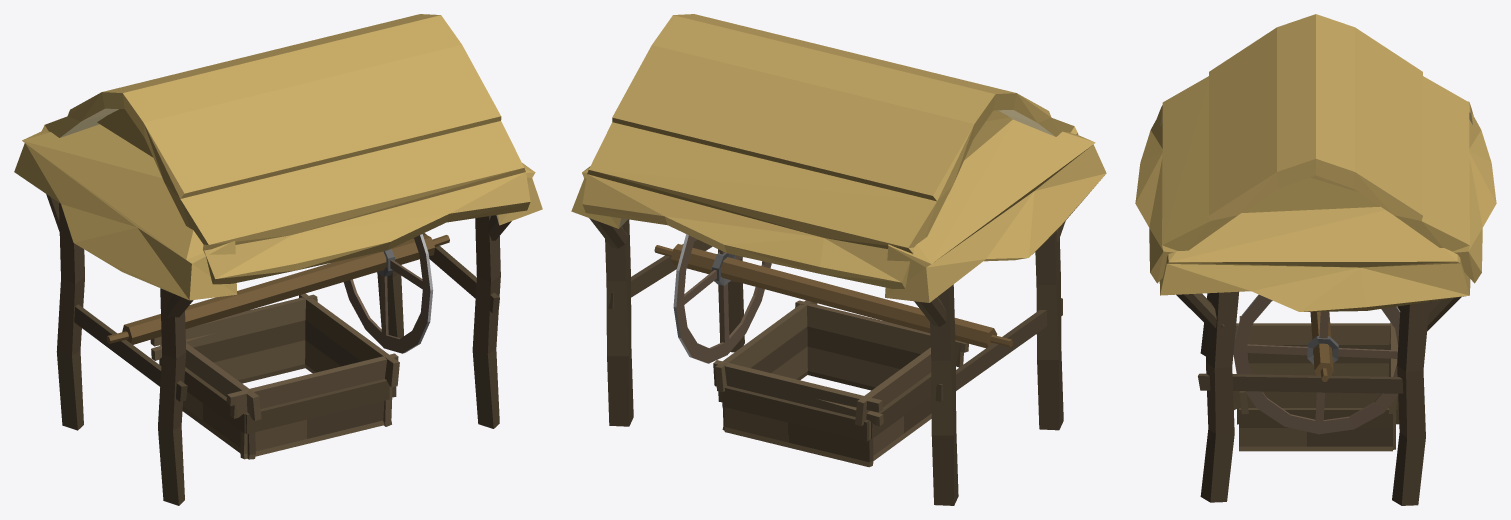
File: EA03_Prop_Village_Whell_01d.glb
The picture shows the model from 3 angles, left to right: view 1: azimuth 30°, elevation 25°; view 2: azimuth 150°, elevation 25°; view 3: azimuth 270°, elevation 25°; orthographic projection. The views are drawn at different scales.
Parts seen in each view (by area): view 1: EA03_Prop_Village_Whell_01d; view 2: EA03_Prop_Village_Whell_01d; view 3: EA03_Prop_Village_Whell_01d.
Part boxes in pixels (x1=…): EA03_Prop_Village_Whell_01d: x1=14, y1=14, x2=542, y2=505; EA03_Prop_Village_Whell_01d: x1=571, y1=14, x2=1106, y2=505; EA03_Prop_Village_Whell_01d: x1=1135, y1=14, x2=1496, y2=505.
Bounding box in the file's own units: 5.57 × 4.93 × 4.7.
1 material, 1 textured.
